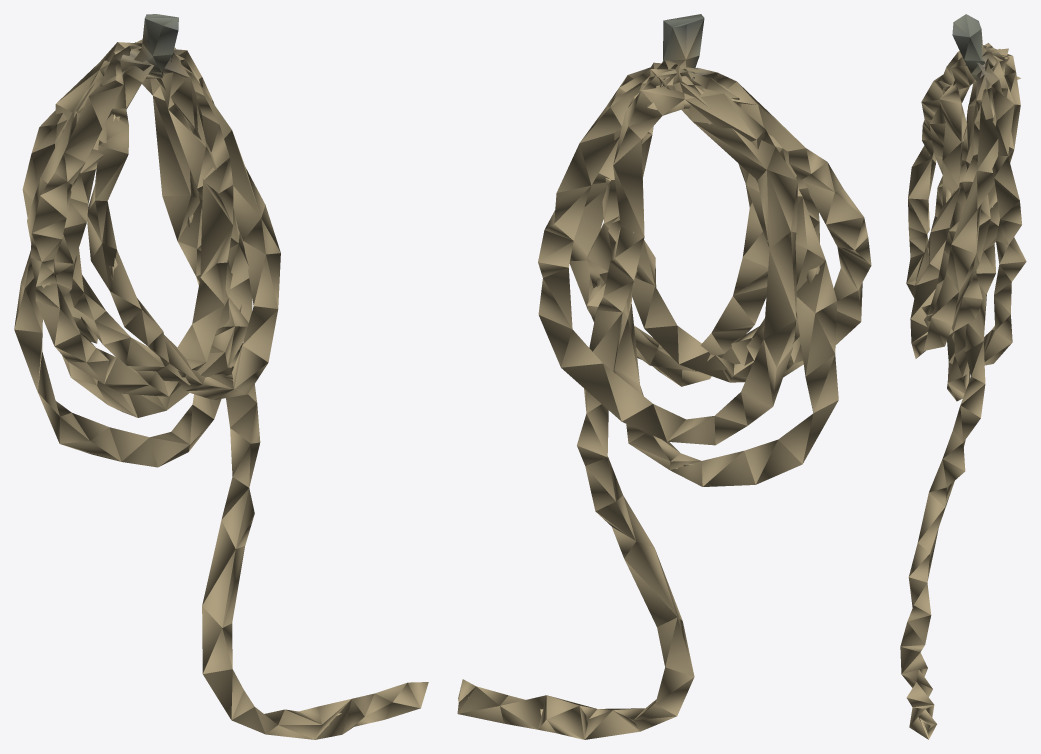
File: Rope01.fbx
The picture shows the model from 3 angles, left to right: view 1: azimuth 30°, elevation 25°; view 2: azimuth 150°, elevation 25°; view 3: azimuth 270°, elevation 25°; orthographic projection. The views are drawn at different scales.
Visible parts, largest first — view 1: Rope01; view 2: Rope01; view 3: Rope01.
Boxes of the visible parts, x1,y1,x2,y2 form: Rope01: (14, 14, 428, 739); Rope01: (457, 14, 871, 739); Rope01: (900, 14, 1026, 739).
Bounding box in the file's own units: 68.88 × 125 × 22.88.
